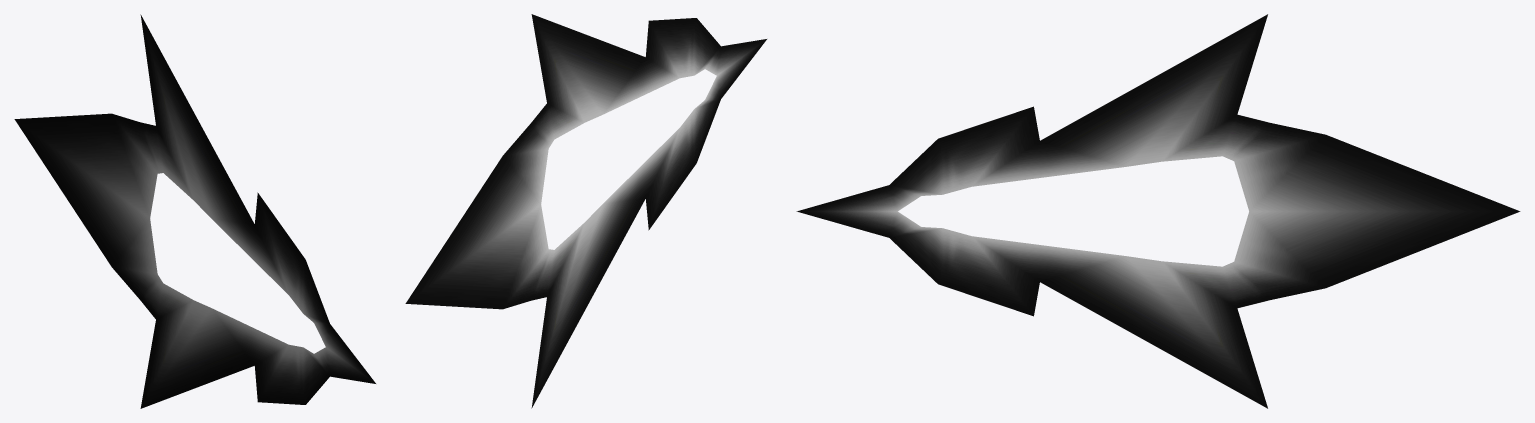
The model's file is yinxinjiantong002.FBX.
3 views of the same model, side by side, from view 1: azimuth 30°, elevation 25°; view 2: azimuth 150°, elevation 25°; view 3: azimuth 270°, elevation 25° (orthographic).
Parts seen in each view (by area): view 1: SMDImport001; view 2: SMDImport001; view 3: SMDImport001.
Part boxes in pixels (bbox=[...]): SMDImport001: bbox=[14, 14, 375, 408]; SMDImport001: bbox=[405, 14, 766, 408]; SMDImport001: bbox=[796, 14, 1520, 408].
Size of the model in its own units: 9.92e-05 by 98.48 by 164.
